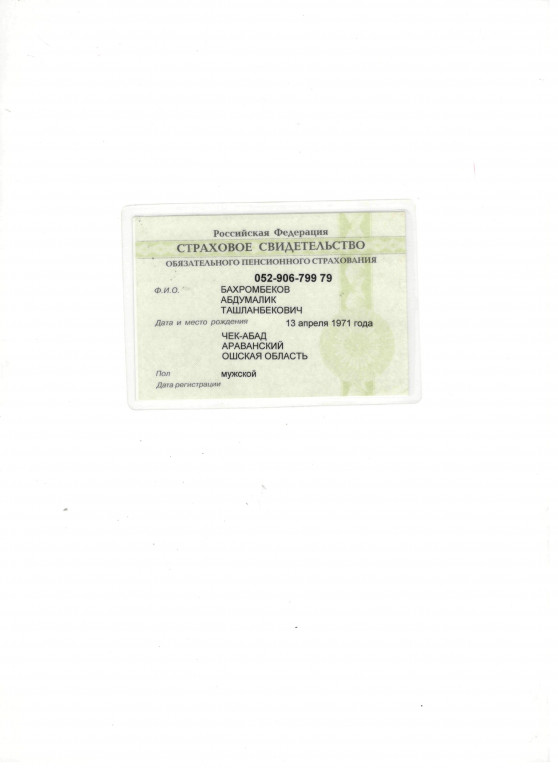text: (219, 329, 311, 363), (284, 317, 376, 329), (253, 270, 335, 283), (219, 304, 304, 315), (218, 283, 293, 295), (218, 294, 282, 304), (219, 368, 261, 379)
